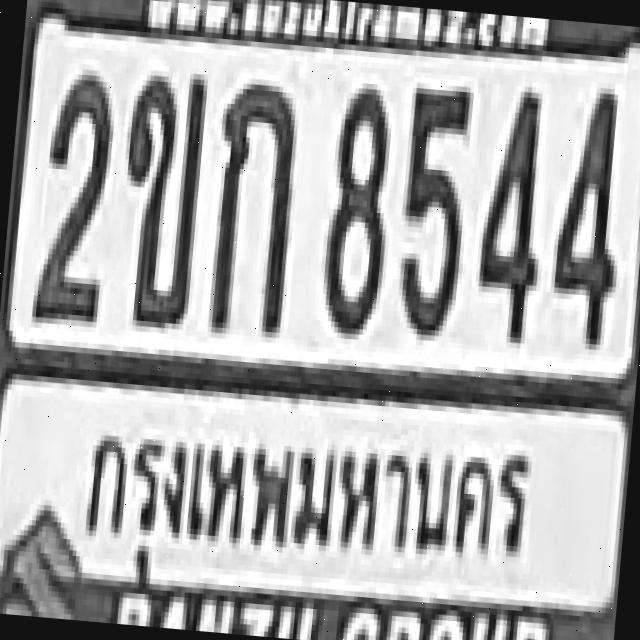10GorGai: (204, 76, 298, 332)
11KhorKhai: (110, 68, 204, 324)
2: (30, 69, 116, 319)
4: (546, 82, 626, 342), (471, 83, 550, 338)
5: (391, 81, 470, 336)
8: (316, 80, 394, 330)
Bangkok: (68, 400, 550, 606)
